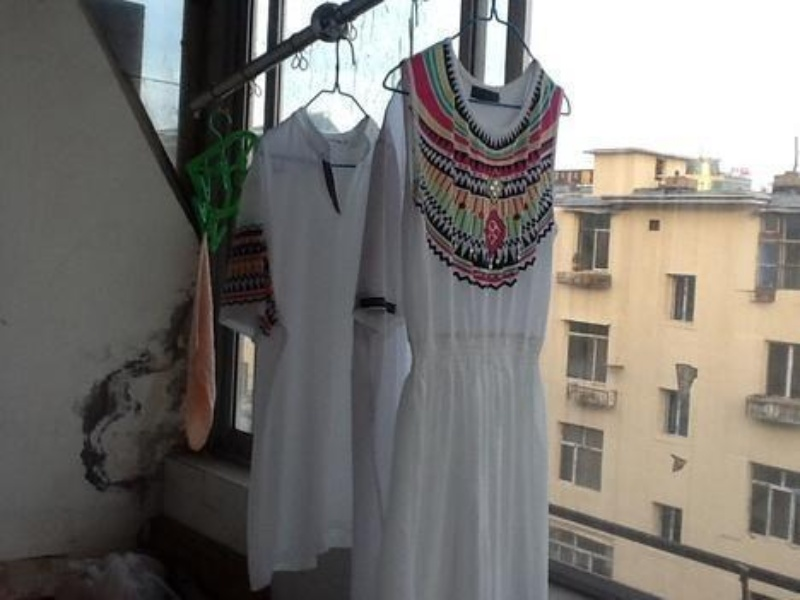short_sleeved_shirt: (215, 104, 386, 598)
vest_dress: (371, 31, 568, 598)
